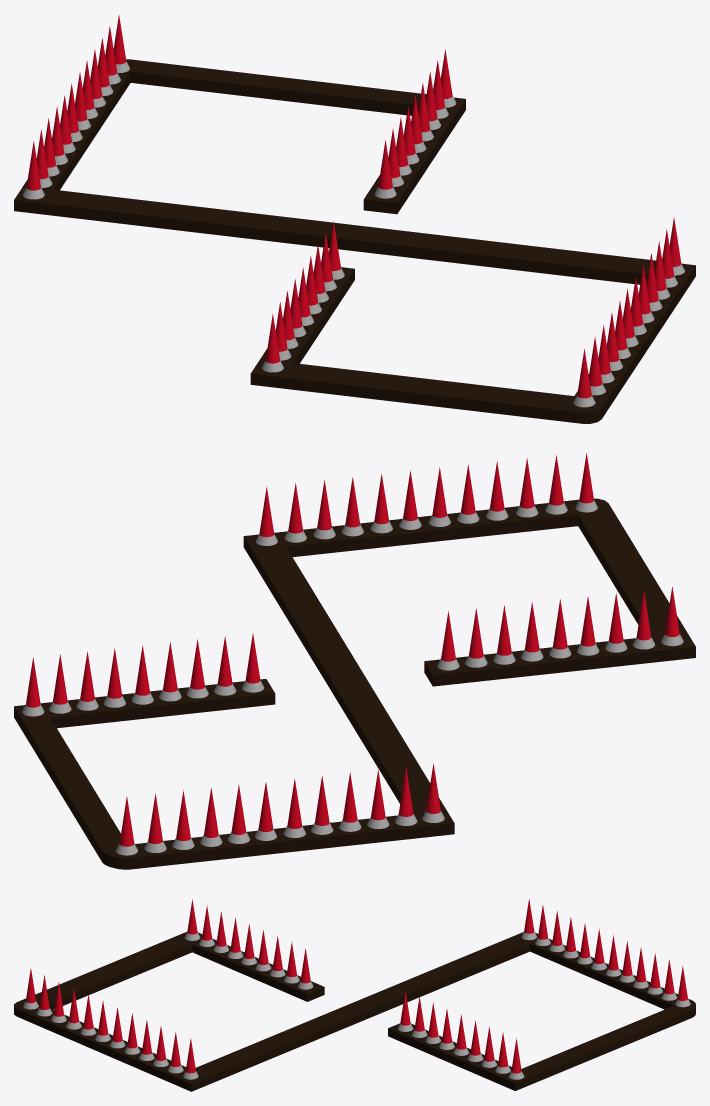
The model's file is kapan.fbx.
3 renders of one model, top to bottom at view 1: azimuth 30°, elevation 25°; view 2: azimuth 150°, elevation 25°; view 3: azimuth 270°, elevation 25°, orthographic. The views are drawn at different scales.
Parts seen in each view (by area): view 1: Cube; view 2: Cube; view 3: Cube, Circle.002, Circle.034, Circle.006, Circle.016, Circle.012, Circle.018, Circle.028, Circle.039, Circle.035, Circle.001, Circle.011.
Part boxes in pixels (x1=…): Cube: x1=14, y1=59, x2=695, y2=423; Cube: x1=14, y1=498, x2=695, y2=869; Cube: x1=14, y1=932, x2=695, y2=1091; Circle.002: x1=255, y1=930, x2=271, y2=971; Circle.034: x1=619, y1=941, x2=635, y2=982; Circle.006: x1=227, y1=917, x2=243, y2=958; Circle.016: x1=124, y1=1013, x2=140, y2=1054; Circle.012: x1=36, y1=975, x2=52, y2=1016; Circle.018: x1=183, y1=1038, x2=198, y2=1079; Circle.028: x1=495, y1=1032, x2=510, y2=1073; Circle.039: x1=563, y1=917, x2=578, y2=958; Circle.035: x1=591, y1=929, x2=606, y2=970; Circle.001: x1=284, y1=942, x2=299, y2=983; Circle.011: x1=66, y1=988, x2=81, y2=1029.
Size of the model in its own units: 59.11 by 8.33 by 110.
